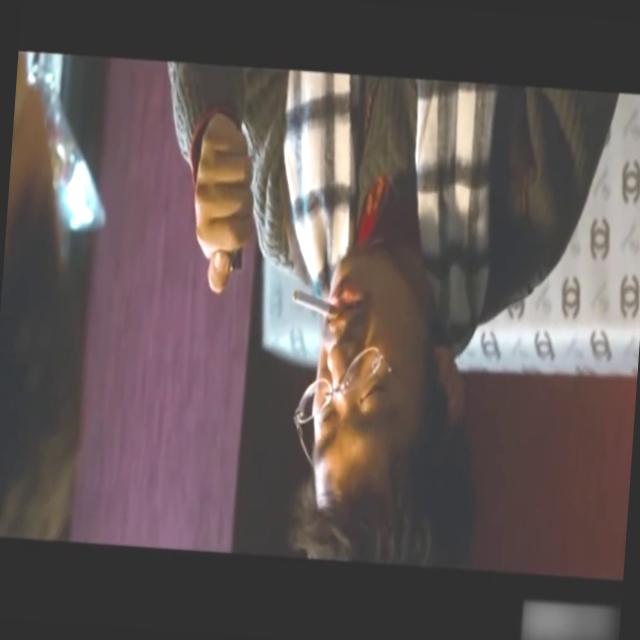cigarette: (288, 283, 342, 315)
